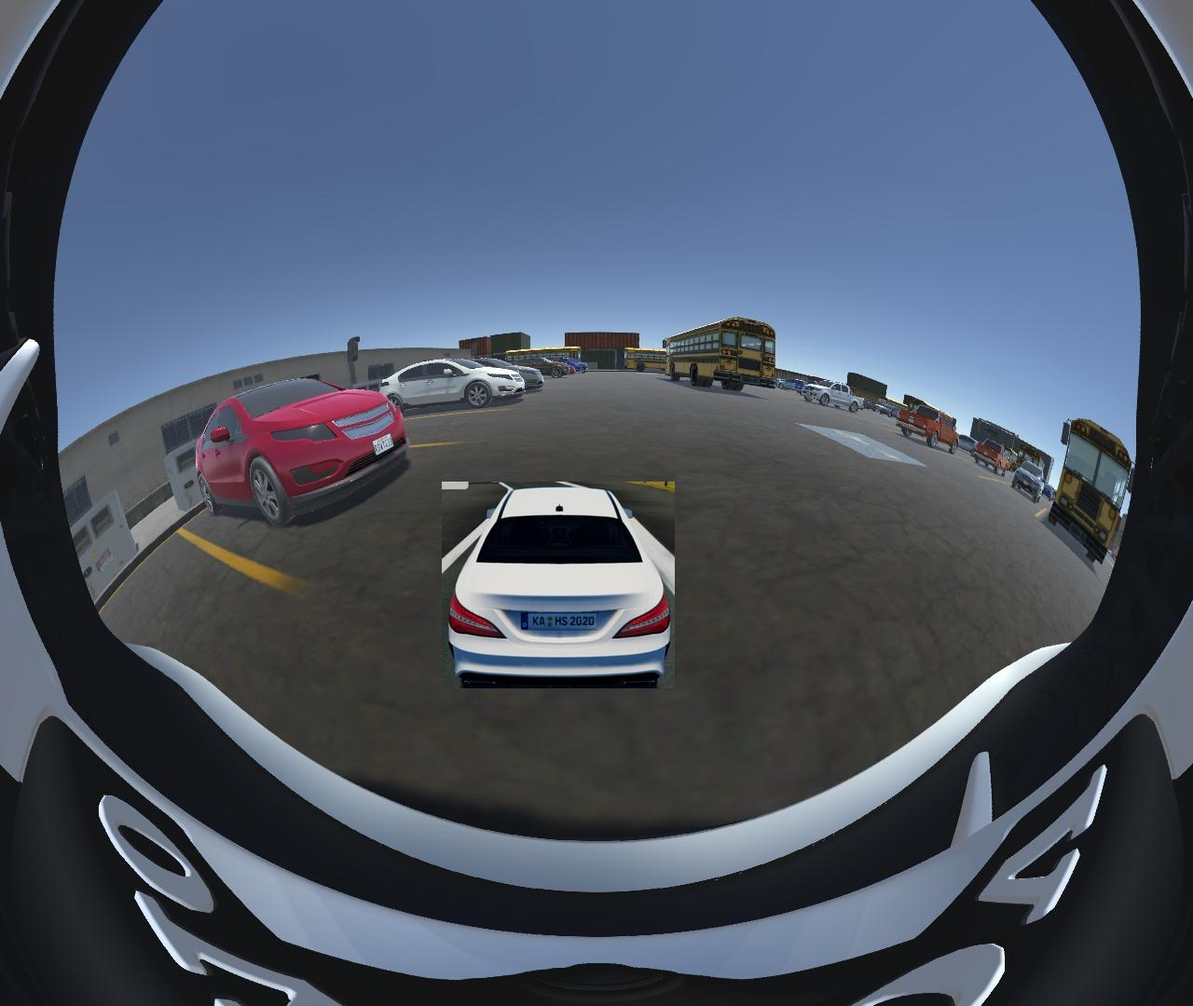Car: (432, 475, 689, 691)
